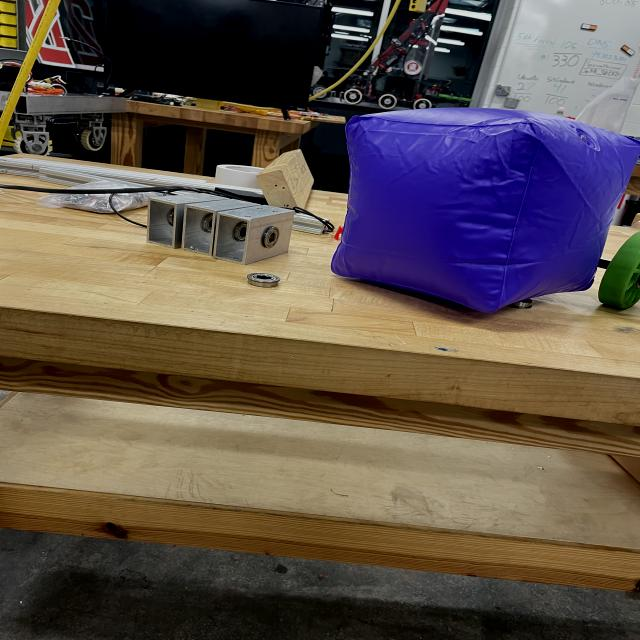frc_cube: (324, 100, 640, 321)
